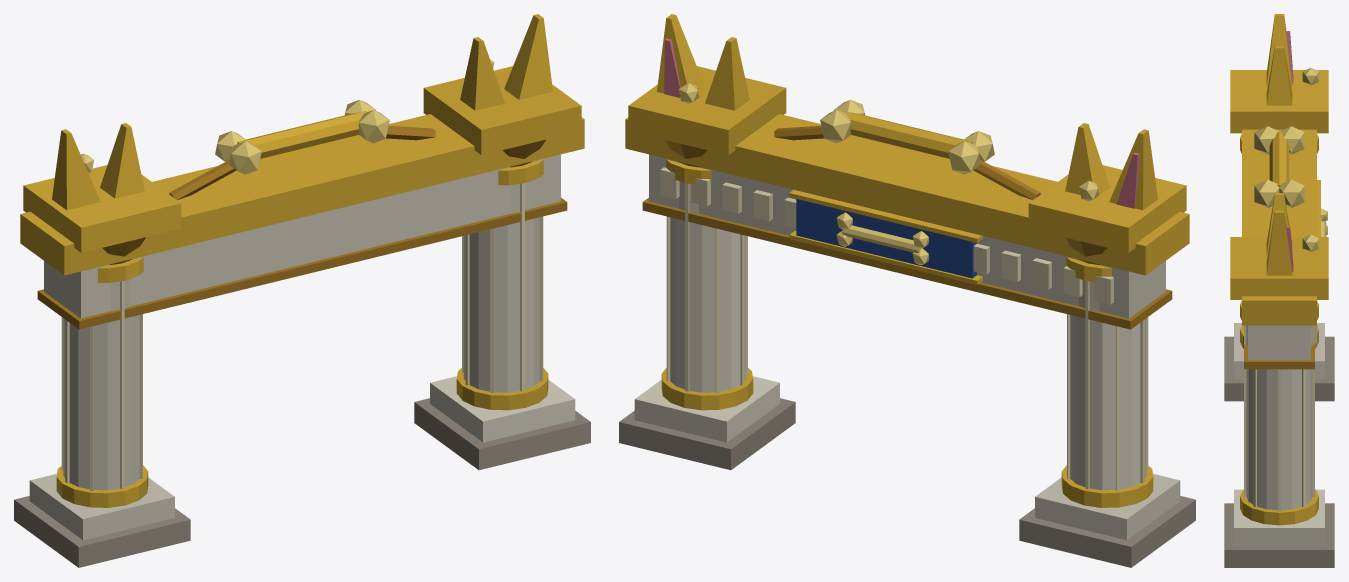
Rendered from Decor_DogeAltar_Gate.fbx.
3 renders of one model, left to right at view 1: azimuth 30°, elevation 25°; view 2: azimuth 150°, elevation 25°; view 3: azimuth 270°, elevation 25°, orthographic. The views are drawn at different scales.
Parts seen in each view (by area): view 1: Gate_Body; view 2: Gate_Body; view 3: Gate_Body.
Part boxes in pixels (bbox=[...]): Gate_Body: bbox=[14, 14, 590, 567]; Gate_Body: bbox=[619, 14, 1195, 567]; Gate_Body: bbox=[1224, 14, 1334, 567].
Bounding box in the file's own units: 26 × 19.47 × 5.6.
